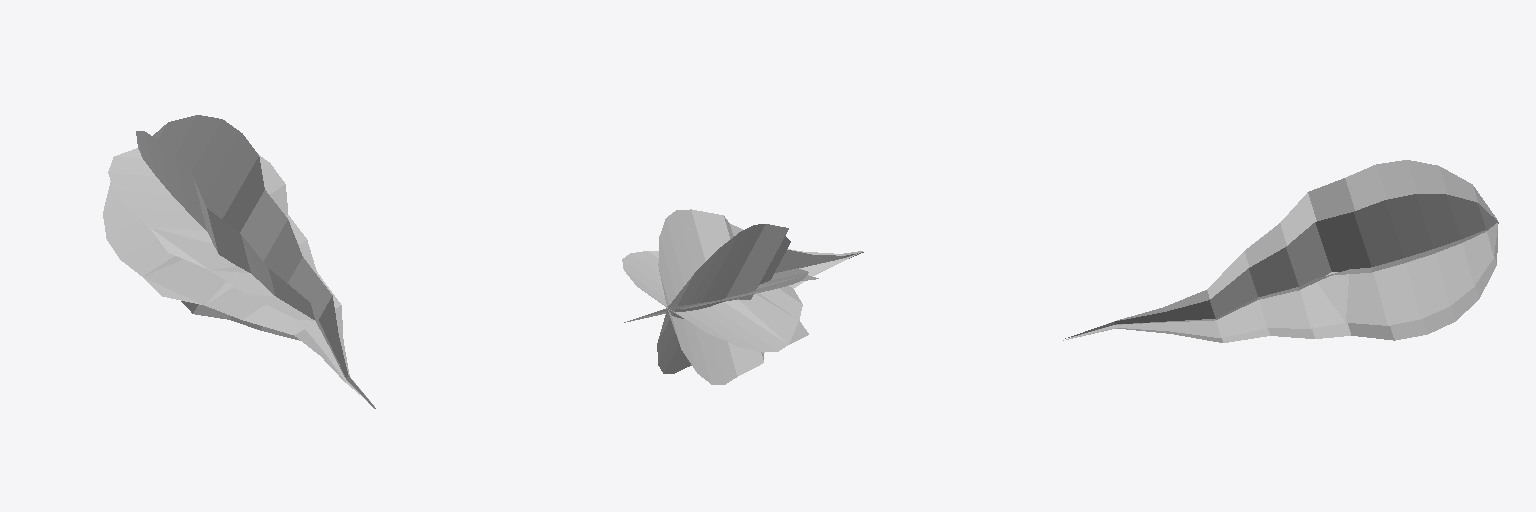
Rendered from Flame1t.obj.
3 renders of one model, left to right at view 1: azimuth 30°, elevation 25°; view 2: azimuth 150°, elevation 25°; view 3: azimuth 270°, elevation 25°, orthographic.
Visible parts, largest first — view 1: Flame1t_BezierCurve.010; view 2: Flame1t_BezierCurve.010; view 3: Flame1t_BezierCurve.010.
Part boxes in pixels (left/top/right/bottom): Flame1t_BezierCurve.010: left=103, top=115, right=375, bottom=408; Flame1t_BezierCurve.010: left=622, top=209, right=863, bottom=384; Flame1t_BezierCurve.010: left=1063, top=160, right=1498, bottom=342.
Bounding box in the file's own units: 0.0191 × 0.0191 × 0.0478.